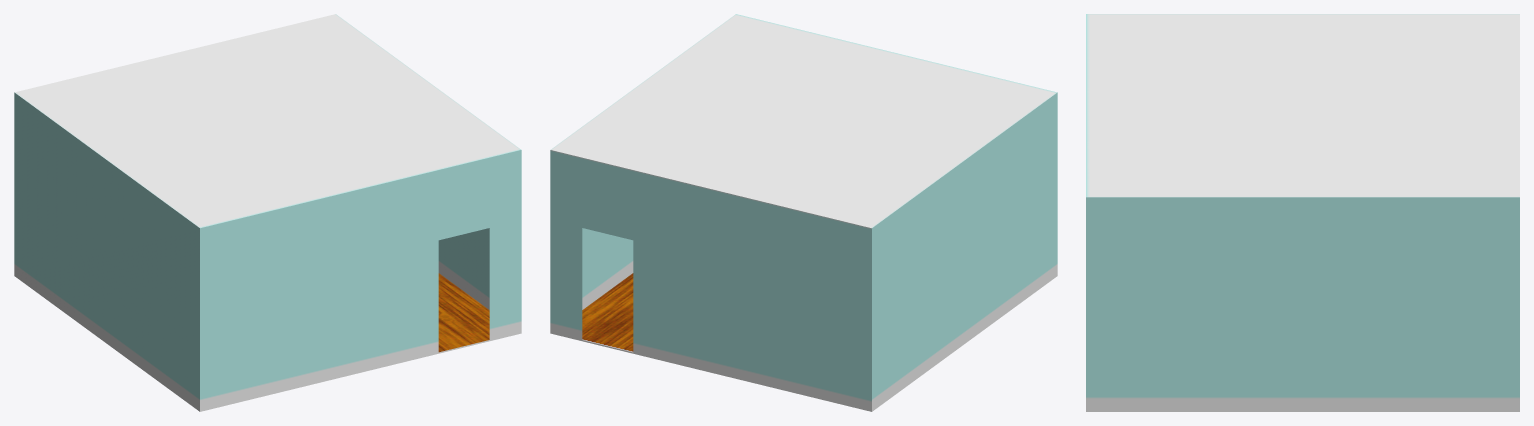
Rendered from Room03.fbx.
The picture shows the model from 3 angles, left to right: view 1: azimuth 30°, elevation 25°; view 2: azimuth 150°, elevation 25°; view 3: azimuth 270°, elevation 25°; orthographic projection. The views are drawn at different scales.
Parts seen in each view (by area): view 1: pCube33; view 2: pCube33; view 3: pCube33.
Boxes of the visible parts, <box> form: pCube33: <box>14,14,521,411</box>; pCube33: <box>550,14,1057,411</box>; pCube33: <box>1086,14,1519,411</box>.
Size of the model in its own units: 649 by 354 by 649.
1 material, 1 textured.
